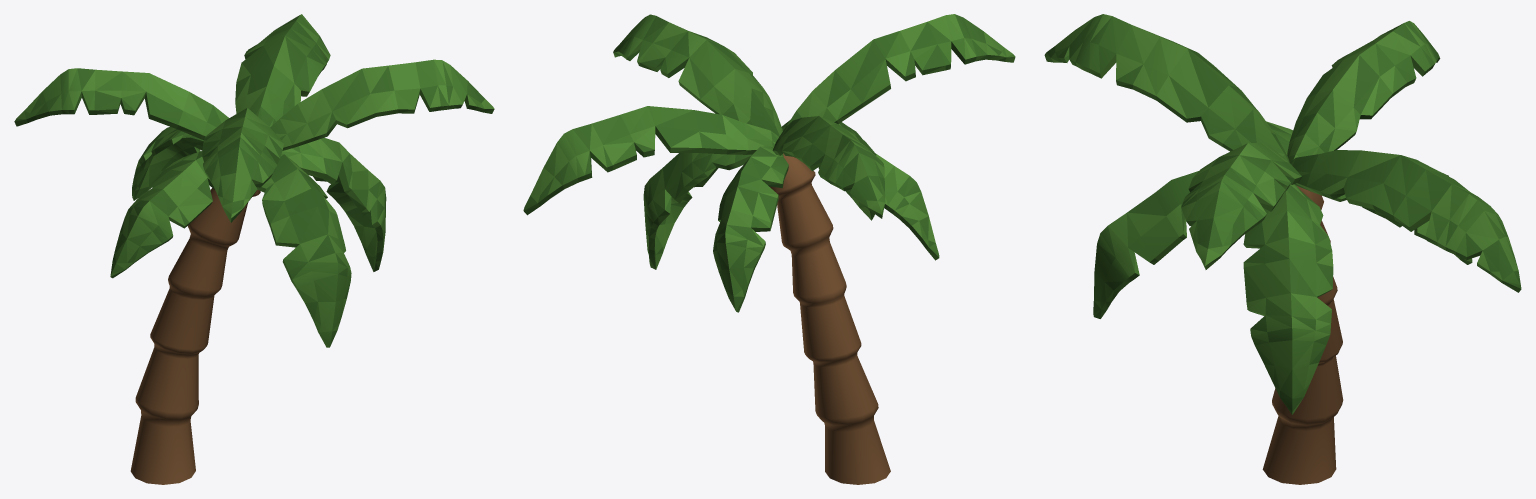
The model's file is palm.fbx.
The picture shows the model from 3 angles, left to right: view 1: azimuth 30°, elevation 25°; view 2: azimuth 150°, elevation 25°; view 3: azimuth 270°, elevation 25°; orthographic projection. The views are drawn at different scales.
Visible parts, largest first — view 1: palm; view 2: palm; view 3: palm.
Boxes of the visible parts, x1,y1,x2,y2 form: palm: (14, 14, 494, 484); palm: (523, 14, 1015, 484); palm: (1044, 14, 1521, 484).
Size of the model in its own units: 6.87 by 7 by 6.72.
